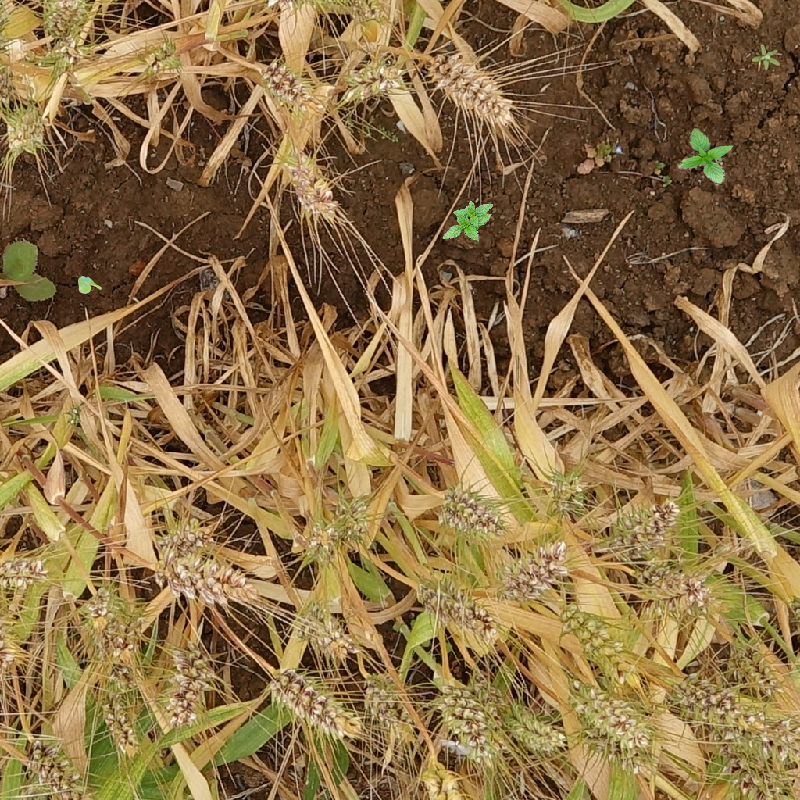spikelet: (573, 685, 658, 774), (266, 668, 359, 743), (431, 53, 517, 131), (561, 602, 641, 679), (161, 548, 260, 609), (655, 662, 732, 735), (164, 634, 217, 733), (13, 738, 94, 800), (434, 687, 500, 763), (498, 544, 572, 604), (729, 635, 784, 701), (287, 150, 338, 221), (439, 484, 505, 538), (96, 680, 139, 757), (291, 607, 352, 660), (504, 705, 567, 754), (341, 57, 402, 104), (417, 581, 478, 628), (271, 63, 325, 116), (87, 583, 131, 646), (157, 515, 221, 553), (3, 104, 47, 156), (611, 502, 657, 546), (545, 468, 588, 515), (139, 40, 188, 81), (335, 495, 375, 541), (1, 558, 52, 594), (641, 565, 689, 601), (725, 730, 770, 768), (40, 1, 88, 36), (301, 523, 340, 565)
weed: (1, 241, 60, 302), (678, 128, 733, 184), (442, 201, 498, 243), (753, 47, 782, 78), (588, 141, 621, 168), (78, 276, 102, 294), (653, 164, 669, 190)
